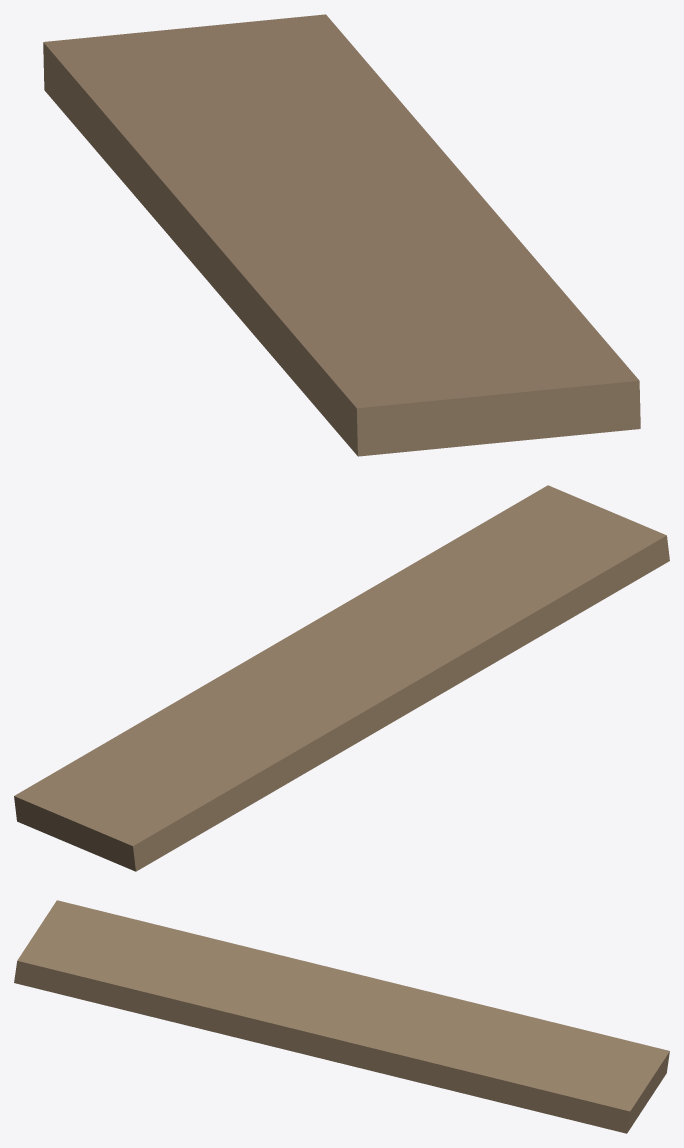
3 renders of one model, top to bottom at view 1: azimuth 30°, elevation 25°; view 2: azimuth 150°, elevation 25°; view 3: azimuth 270°, elevation 25°, orthographic. The views are drawn at different scales.
Parts seen in each view (by area): view 1: Cube.033; view 2: Cube.033; view 3: Cube.033.
Boxes of the visible parts, left/top/right/bottom form: Cube.033: left=43, top=14, right=640, bottom=456; Cube.033: left=14, top=485, right=669, bottom=871; Cube.033: left=14, top=900, right=669, bottom=1133.
Size of the model in its own units: 193 by 68.76 by 402.
